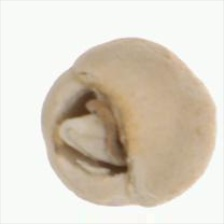L3: (55, 89, 133, 174)
L4: (40, 38, 217, 208)
